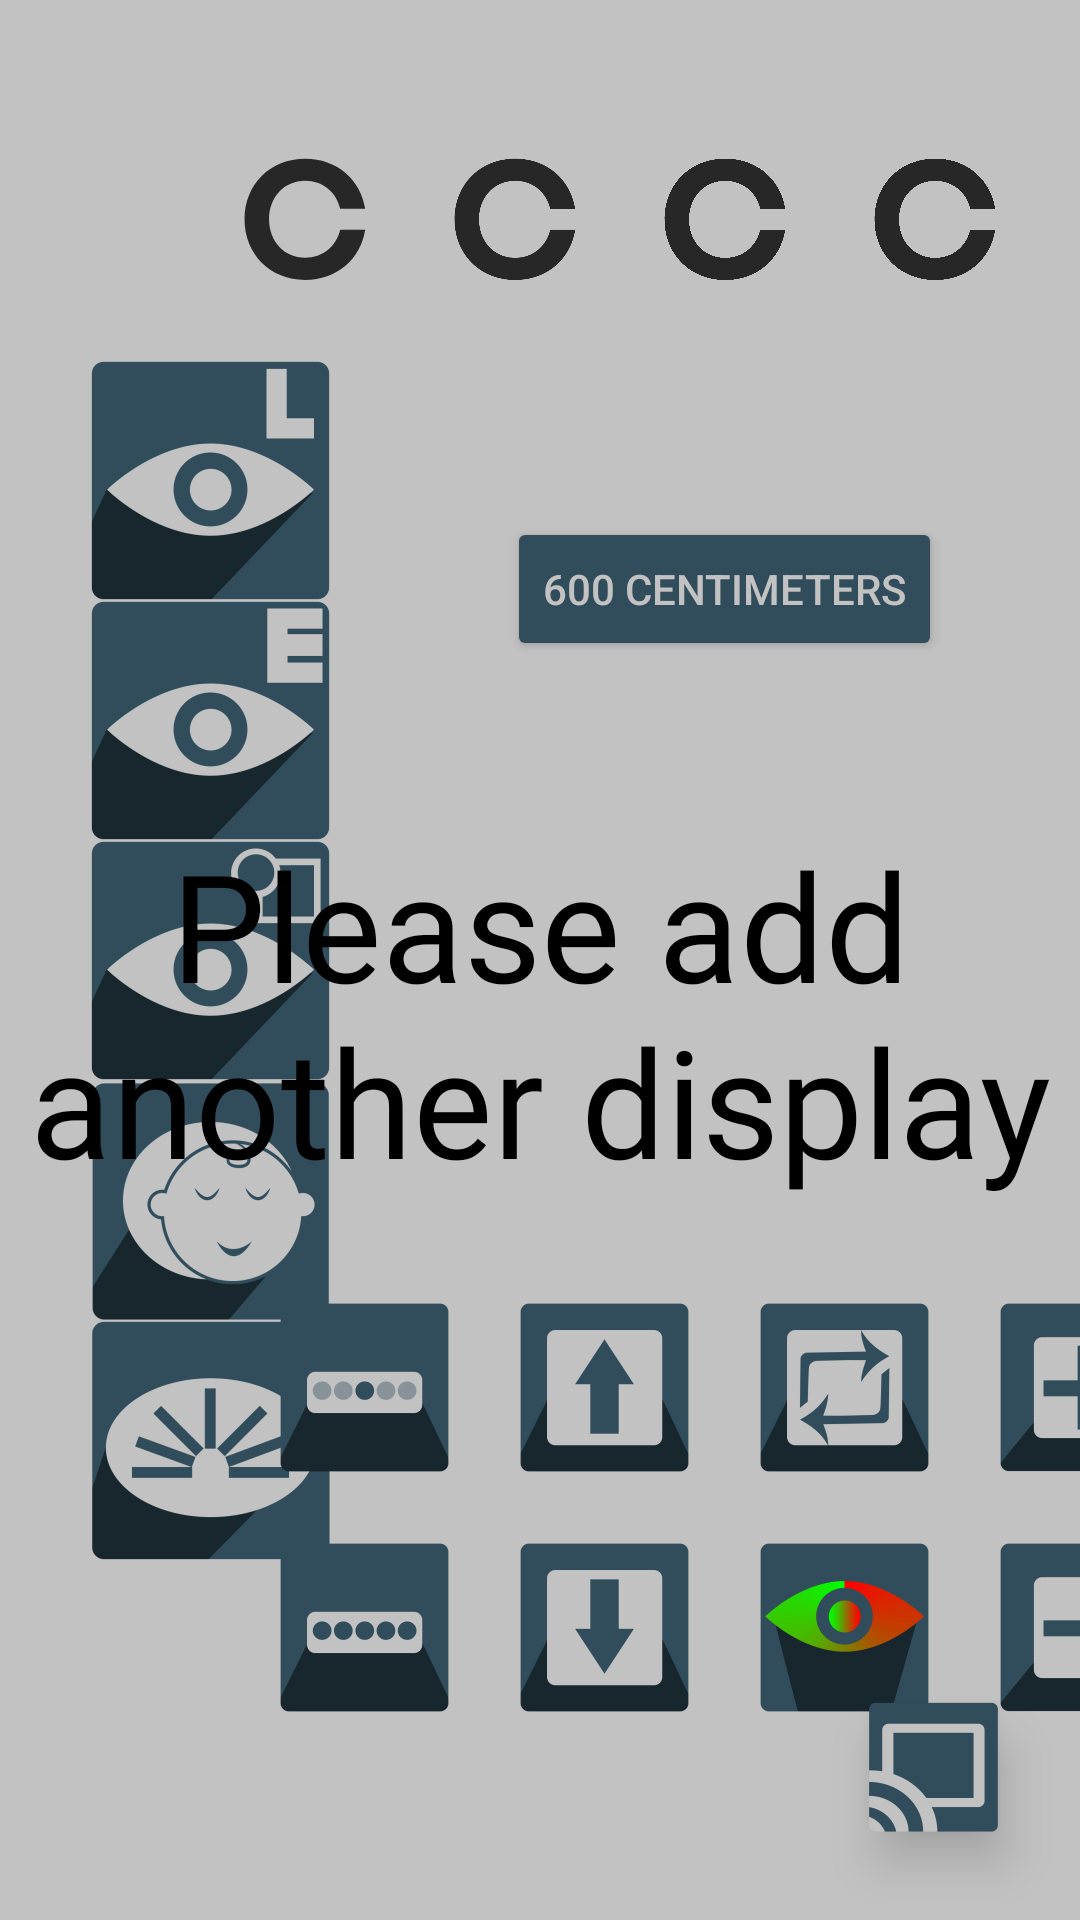

Named icons in this screenshot (1080 x 1920) and their centers, point (x, y):
astigmastism: point (210, 1440)
cast: point (933, 1761)
down: point (604, 1627)
duochrome: point (862, 1645)
logmar: point (210, 481)
multipleletter: point (346, 1609)
refresh: point (844, 1387)
singleletter: point (346, 1387)
tumbling: point (210, 721)
